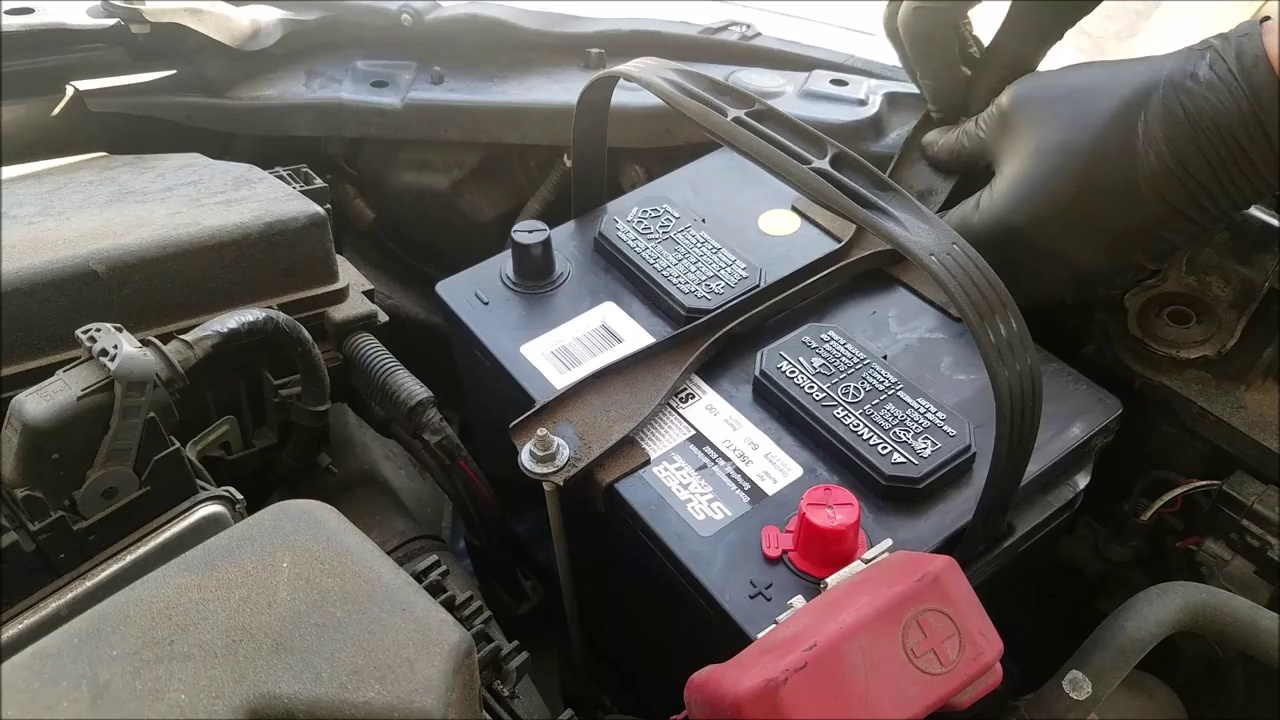battery: (455, 138, 1129, 647)
pos_disconnected: (705, 468, 991, 714)
